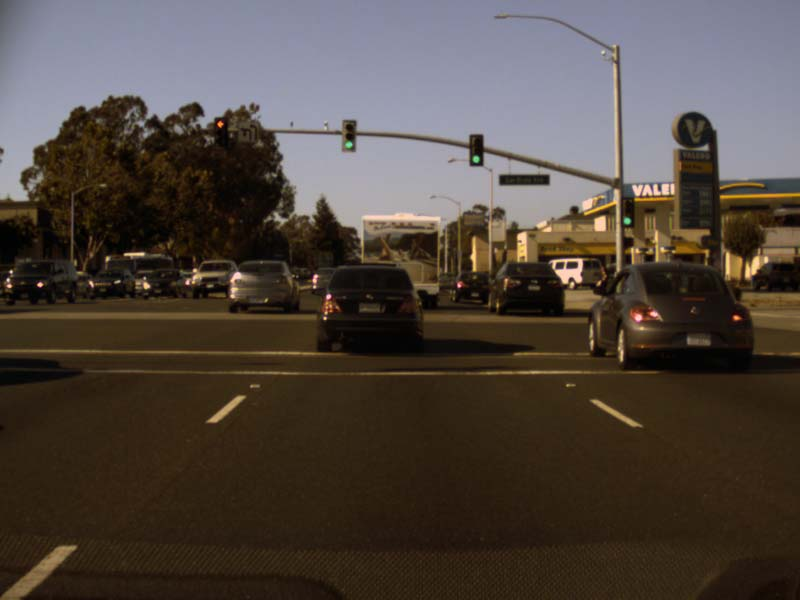Green: (341, 119, 355, 152), (621, 196, 634, 228), (469, 133, 481, 165)
Red: (214, 116, 227, 148)
